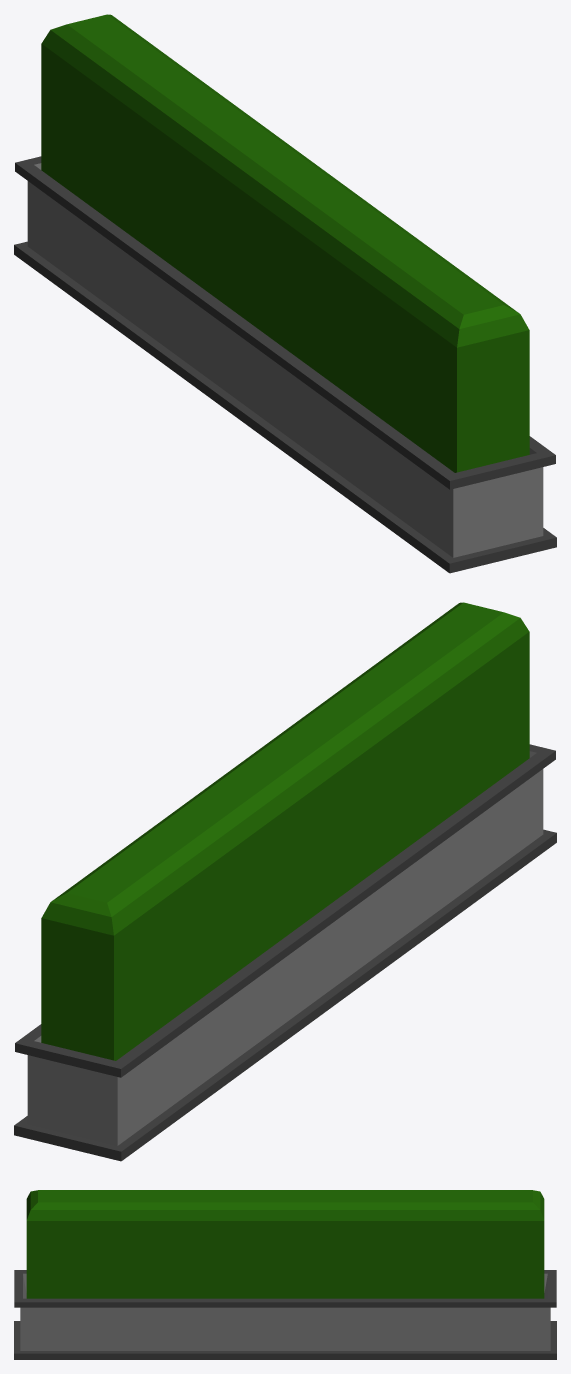
Rendered from bush_01_Long.fbx.
The picture shows the model from 3 angles, top to bottom: view 1: azimuth 30°, elevation 25°; view 2: azimuth 150°, elevation 25°; view 3: azimuth 270°, elevation 25°; orthographic projection. The views are drawn at different scales.
Visible parts, largest first — view 1: bush_01_Long; view 2: bush_01_Long; view 3: bush_01_Long.
Part boxes in pixels (x1,y1,x2,y2): bush_01_Long: (14,14,556,573); bush_01_Long: (14,602,556,1161); bush_01_Long: (14,1190,556,1359).
Size of the model in its own units: 100 by 210 by 703.
1 material, 1 textured.
